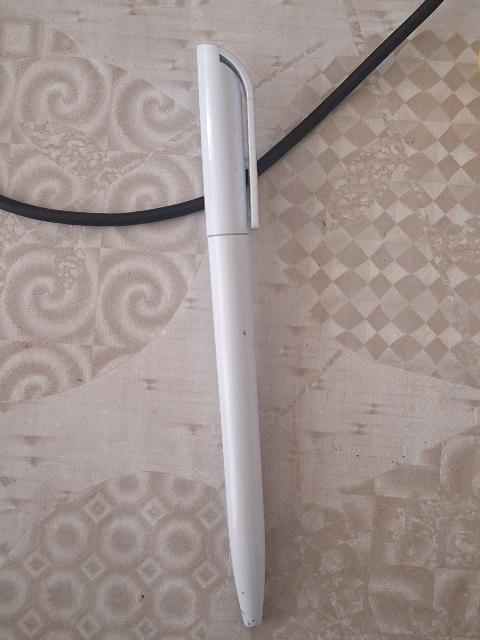writing_tool: (193, 39, 271, 628)
